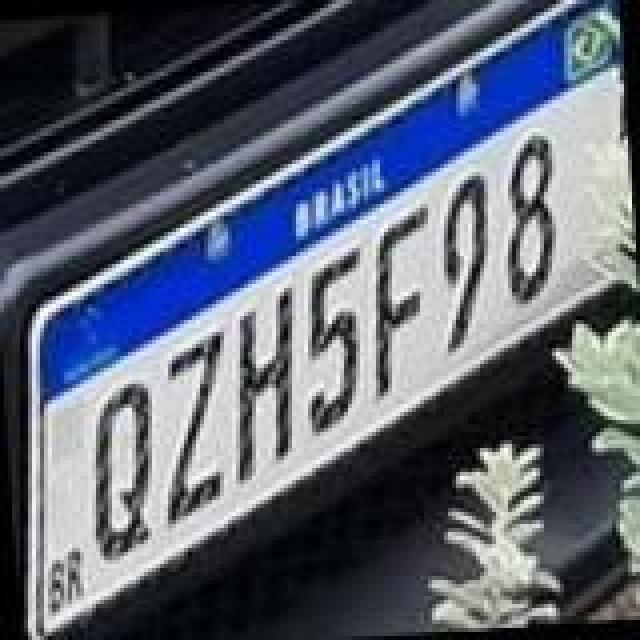5: (294, 246, 378, 442)
8: (492, 130, 564, 310)
9: (428, 170, 500, 358)
F: (358, 204, 442, 404)
H: (222, 284, 306, 484)
Q: (78, 378, 162, 566)
Z: (150, 324, 242, 524)
